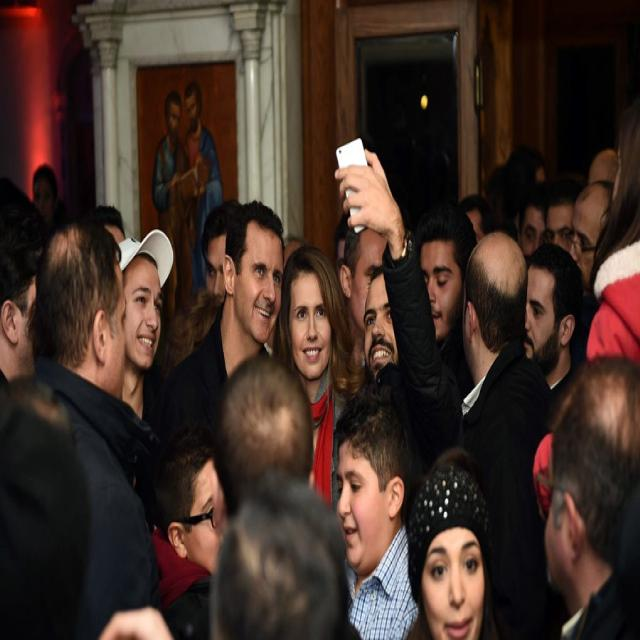body: (0, 204, 175, 638), (160, 354, 363, 640), (0, 368, 173, 640), (452, 228, 552, 640), (333, 146, 451, 479), (159, 198, 287, 496), (534, 352, 640, 640), (184, 198, 278, 457), (462, 124, 614, 284), (331, 385, 421, 640), (272, 243, 356, 516), (401, 441, 514, 640), (210, 480, 348, 640), (116, 226, 175, 536), (150, 426, 229, 640), (586, 98, 640, 376), (413, 198, 481, 402), (0, 176, 50, 410), (520, 239, 586, 415), (336, 214, 392, 400), (156, 78, 224, 223), (32, 158, 136, 240), (178, 293, 224, 360), (282, 232, 300, 268)
